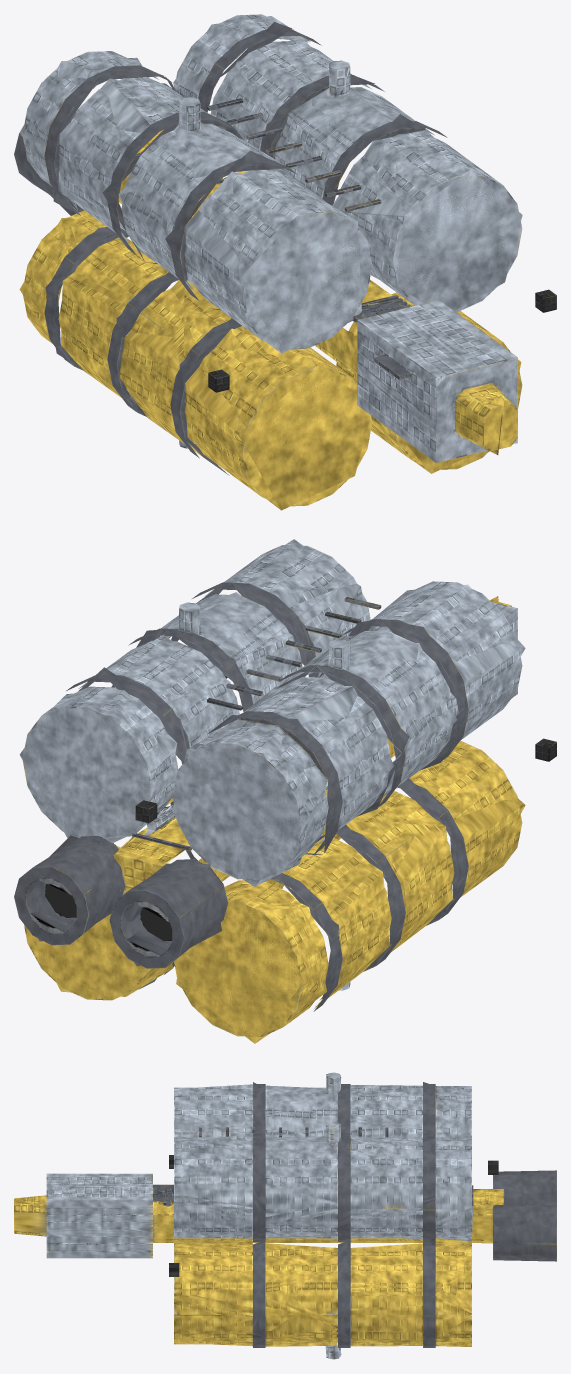
Rendered from sd_npc_tanker.glb.
3 views of the same model, one above another, from view 1: azimuth 30°, elevation 25°; view 2: azimuth 150°, elevation 25°; view 3: azimuth 270°, elevation 25° (orthographic). The views are drawn at different scales.
Parts seen in each view (by area): view 1: LOD0_body, LOD1_body; view 2: LOD0_body, LOD1_body; view 3: LOD0_body, LOD1_body.
Part boxes in pixels (x1,y1,x2,y2): LOD0_body: [14, 14, 556, 506]; LOD1_body: [19, 16, 522, 510]; LOD0_body: [14, 545, 556, 1036]; LOD1_body: [19, 539, 525, 1043]; LOD0_body: [14, 1072, 556, 1359]; LOD1_body: [14, 1074, 556, 1357].
Size of the model in its own units: 0.4902 by 0.4706 by 1.
Materials: 1 (1 with a texture image).
